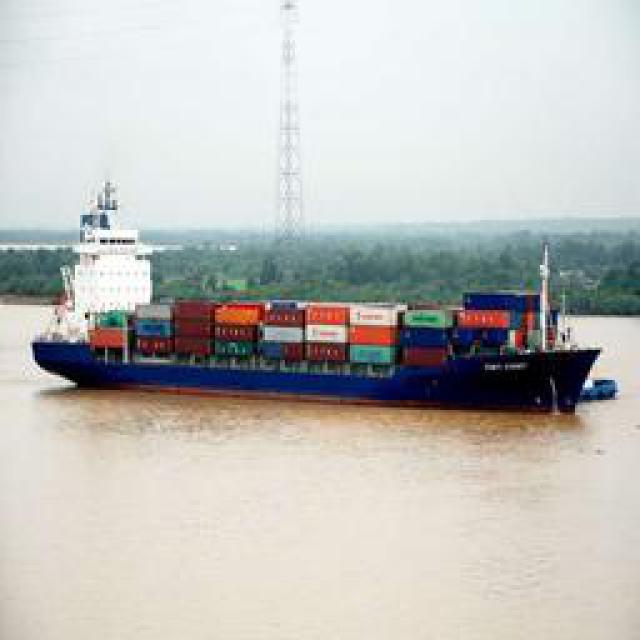Ship: (31, 251, 619, 414)
